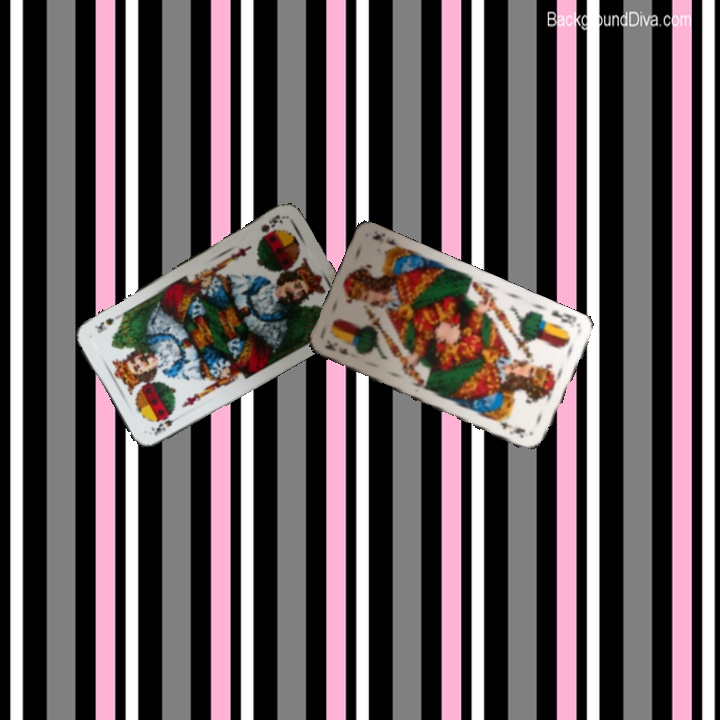EK: (547, 306, 579, 330), (321, 338, 351, 358)
SK: (147, 413, 184, 439), (256, 210, 286, 240)
